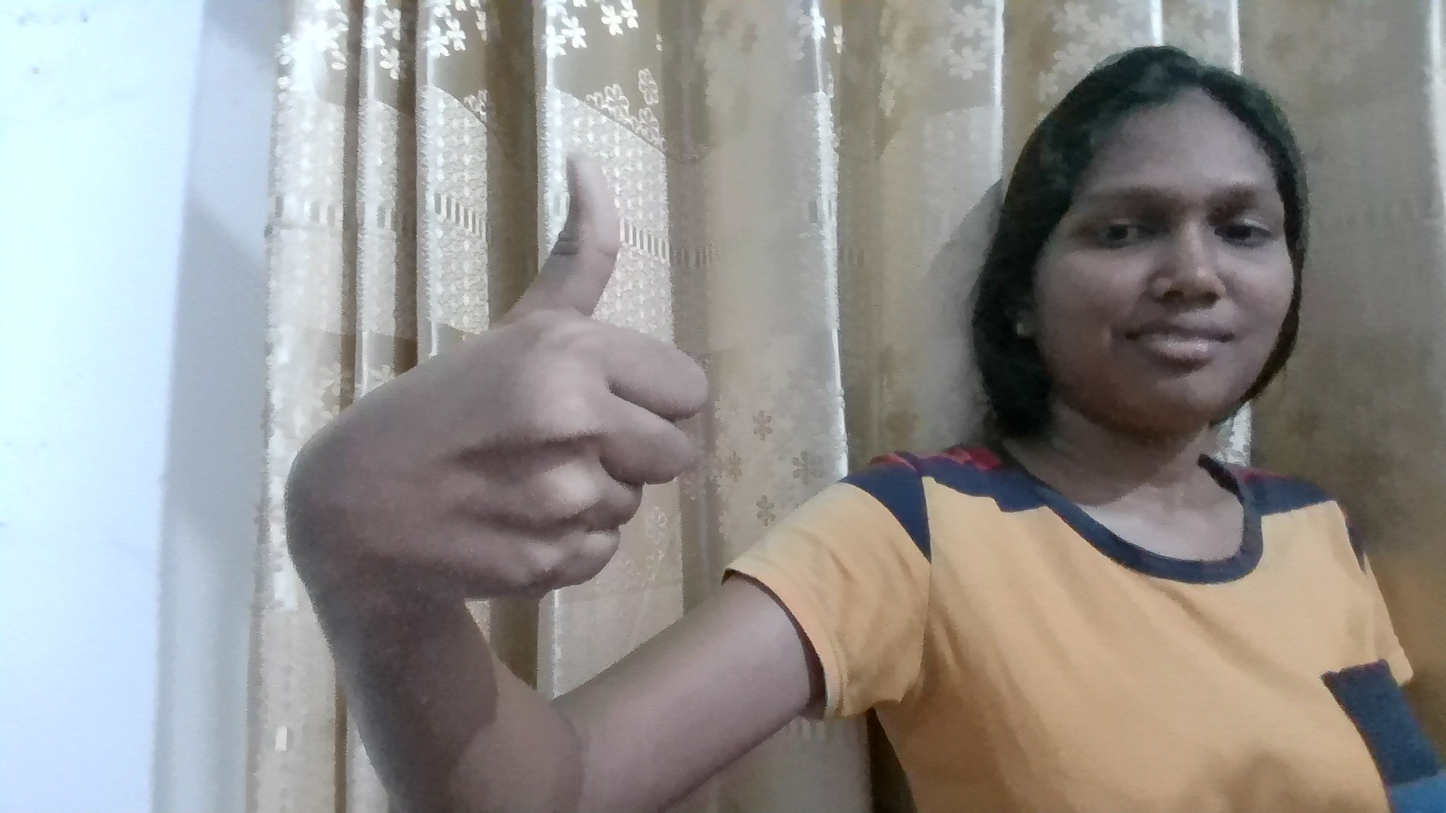Thumbs Up: (235, 49, 735, 641)
